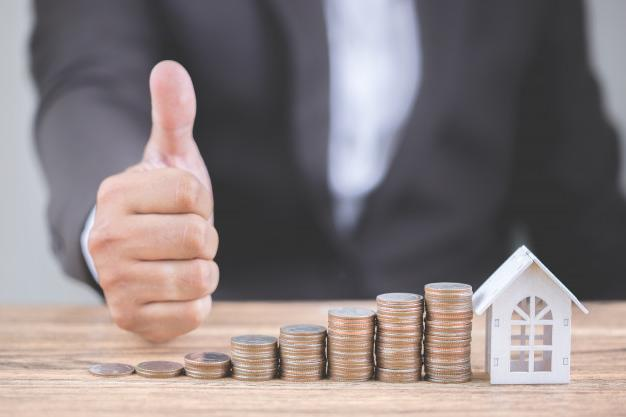thumbsup: (88, 60, 220, 341)
